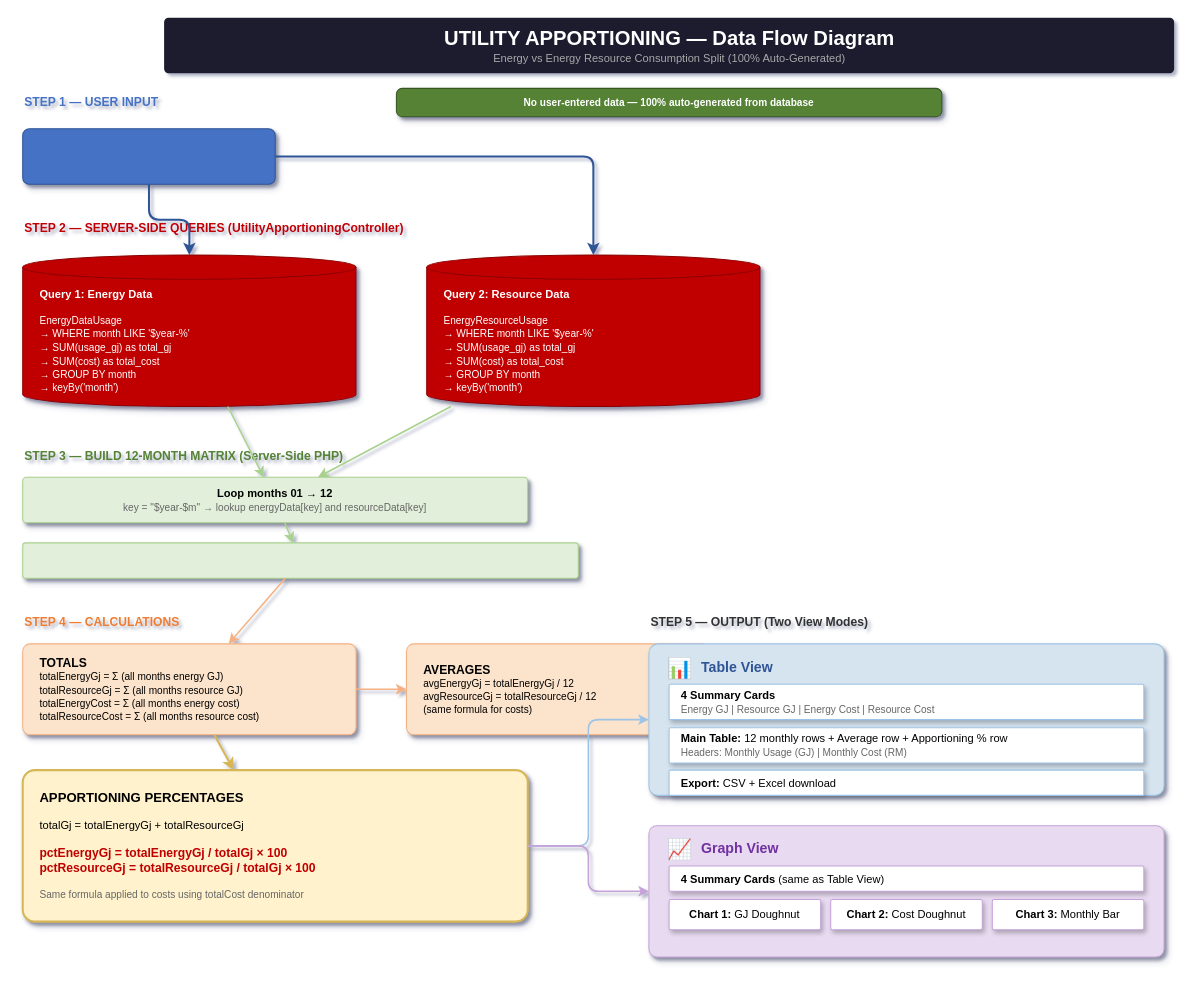
The diagram is 1197 pixels wide and 988 high, and some of its shapes have lost their labels. The shapes that lost their labels are listed below. From the top down, each one's centre as x and y in pixels, then its label:
pixel 149 157: Select Year Page reload with ?year=XXXX
pixel 301 561: Per month row: energy_gj | resource_gj | energy_cost (RM) | resource_cost (RM)
